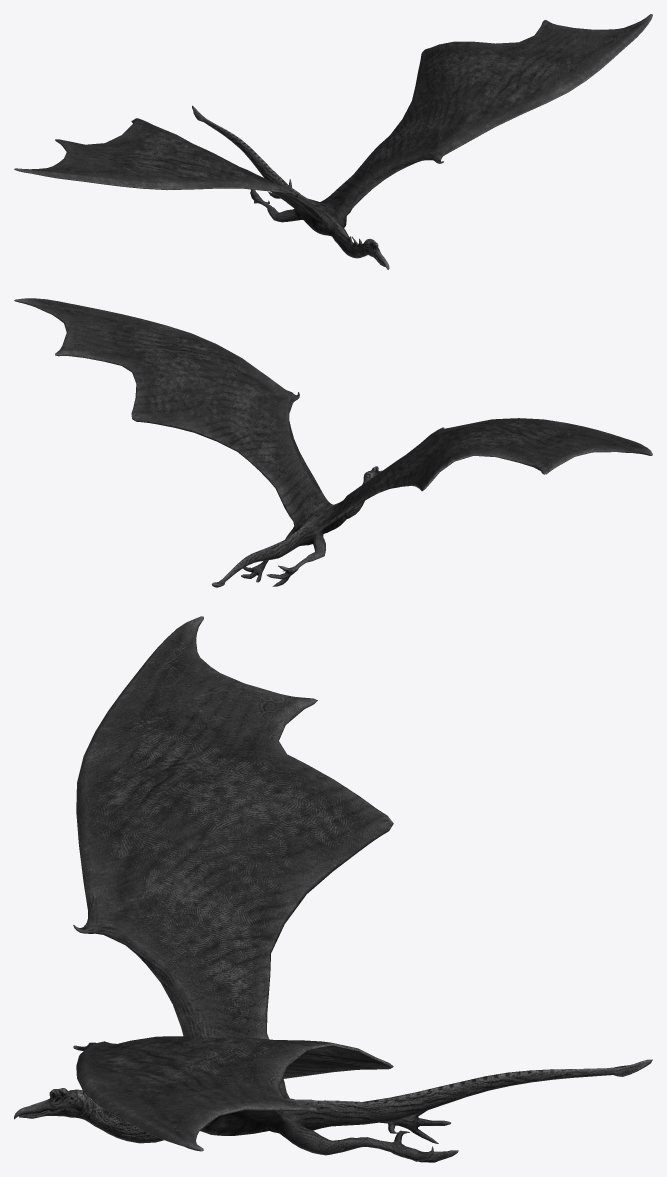
File: Fellbeast_Animate_Flying_15.obj
3 renders of one model, top to bottom at view 1: azimuth 30°, elevation 25°; view 2: azimuth 150°, elevation 25°; view 3: azimuth 270°, elevation 25°, orthographic. The views are drawn at different scales.
Visible parts, largest first — view 1: Fellbeast; view 2: Fellbeast; view 3: Fellbeast.
Boxes of the visible parts, box(x1,y1,x2,y2) form: Fellbeast: box(14, 14, 652, 269); Fellbeast: box(14, 298, 652, 587); Fellbeast: box(14, 616, 652, 1162).
Bounding box in the file's own units: 8.64 × 2.04 × 4.38.
